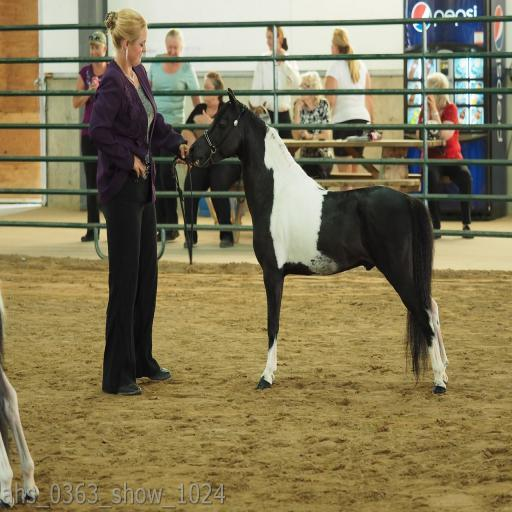Horse: (187, 85, 450, 396), (0, 292, 40, 510)
